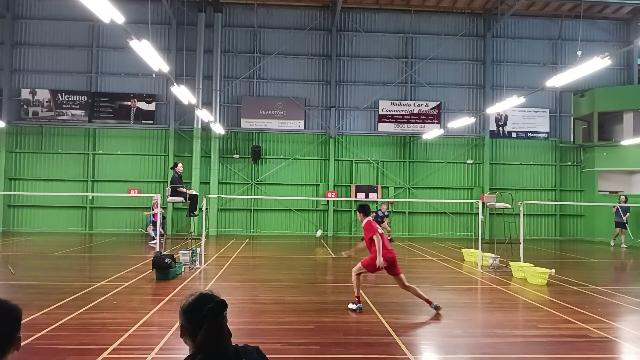Shuttlecock: (314, 228, 326, 240)
